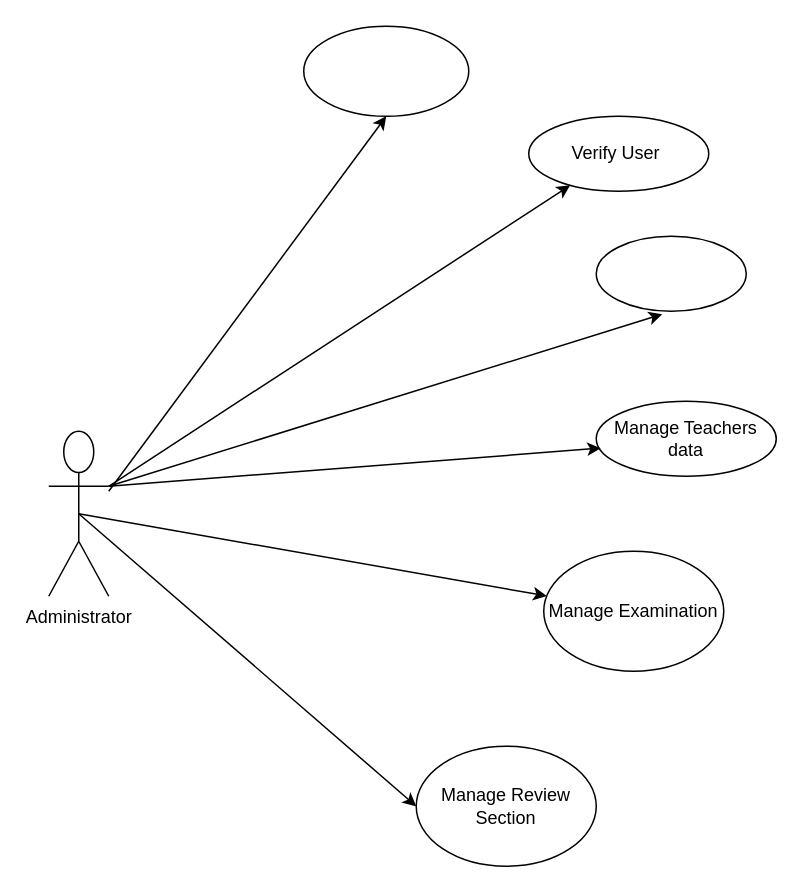
The diagram is 803 pixels wide and 893 high, and some of its shapes have lost their labels. The shapes that lost their labels are listed below. From the top down, each one's centre as x and y in pixels, then its label:
point 385,70: Log in
point 670,273: Manage Students data
